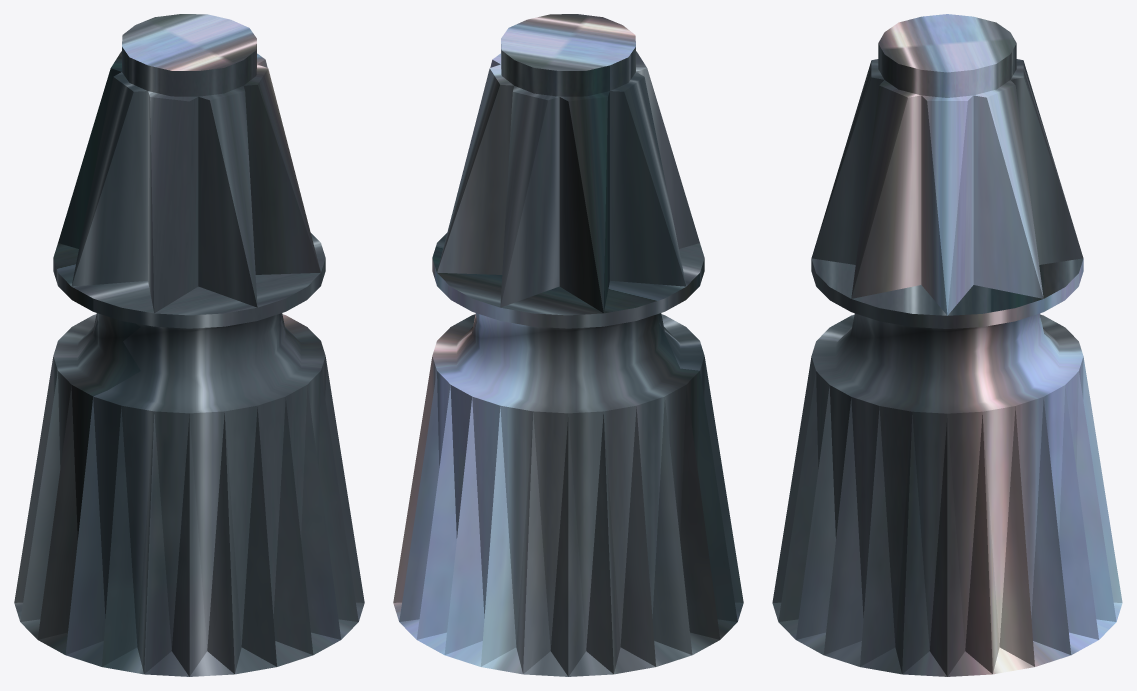
File: PegPlasticT21.fbx
3 views of the same model, side by side, from view 1: azimuth 30°, elevation 25°; view 2: azimuth 150°, elevation 25°; view 3: azimuth 270°, elevation 25° (orthographic).
Parts seen in each view (by area): view 1: PegPlasticT21; view 2: PegPlasticT21; view 3: PegPlasticT21.
Boxes of the visible parts, x1=… form: PegPlasticT21: x1=14, y1=14, x2=364, y2=676; PegPlasticT21: x1=393, y1=14, x2=743, y2=676; PegPlasticT21: x1=772, y1=14, x2=1122, y2=676.
Bounding box in the file's own units: 1.85 × 3.26 × 1.85.
1 material, 1 textured.
